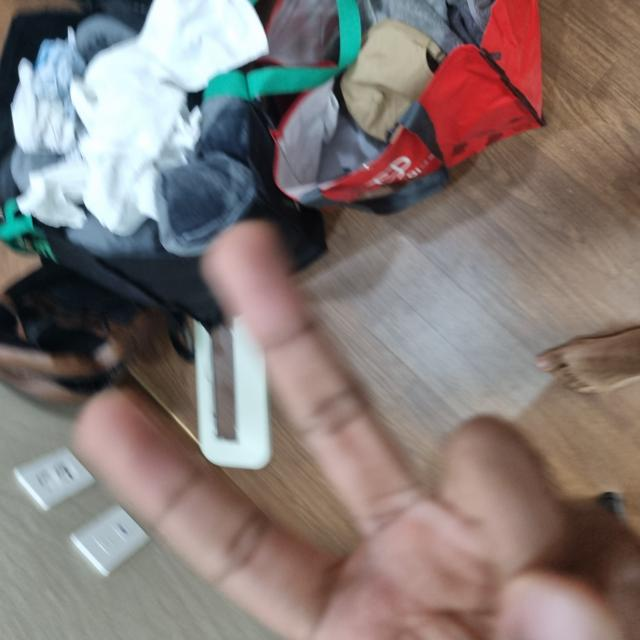Scissors: (0, 78, 413, 639)
